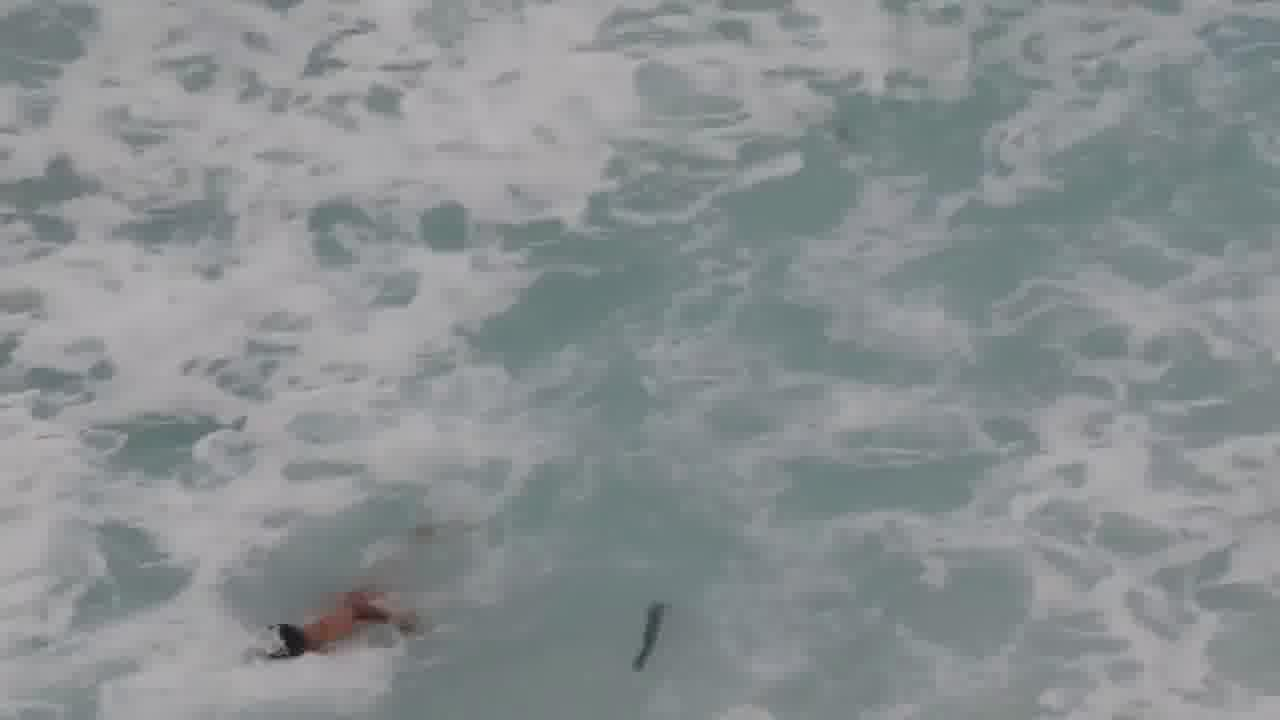human: (238, 587, 428, 667)
